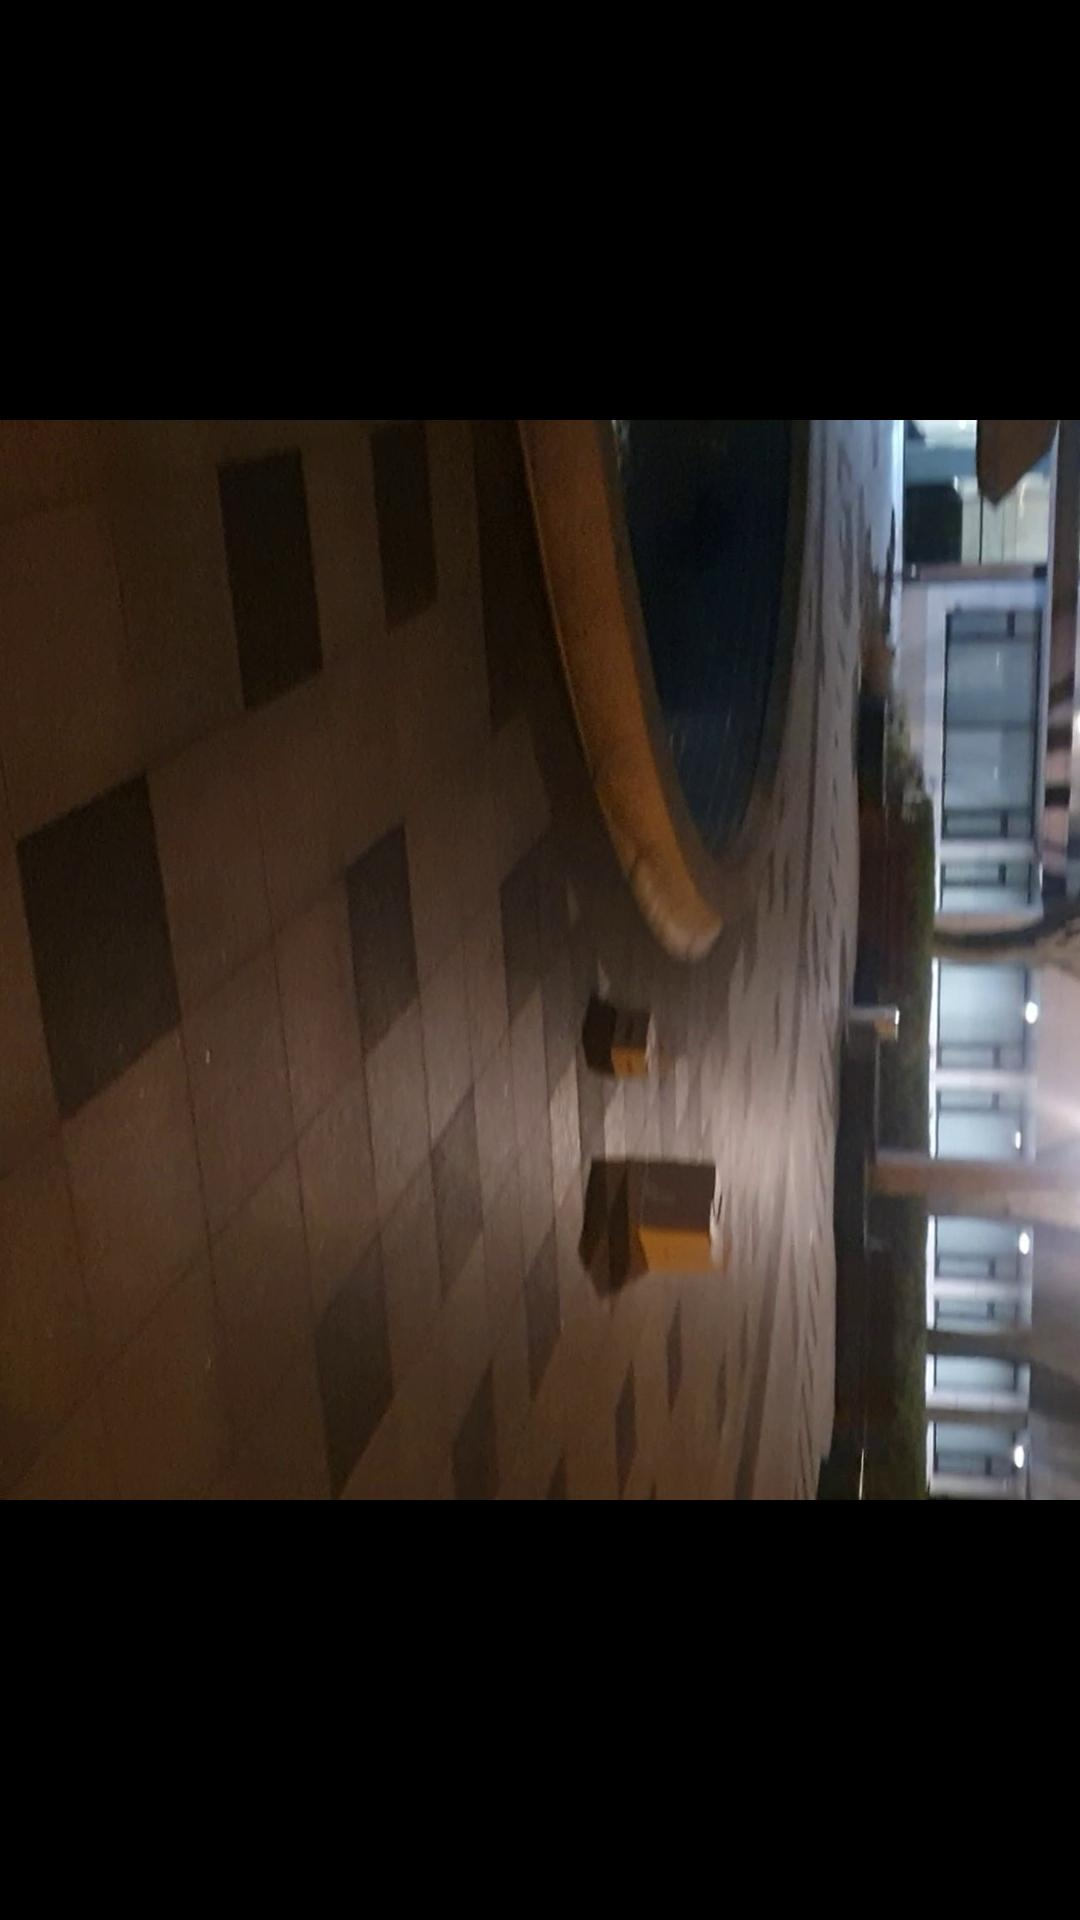Box: (607, 1146, 732, 1276), (600, 998, 661, 1079)
